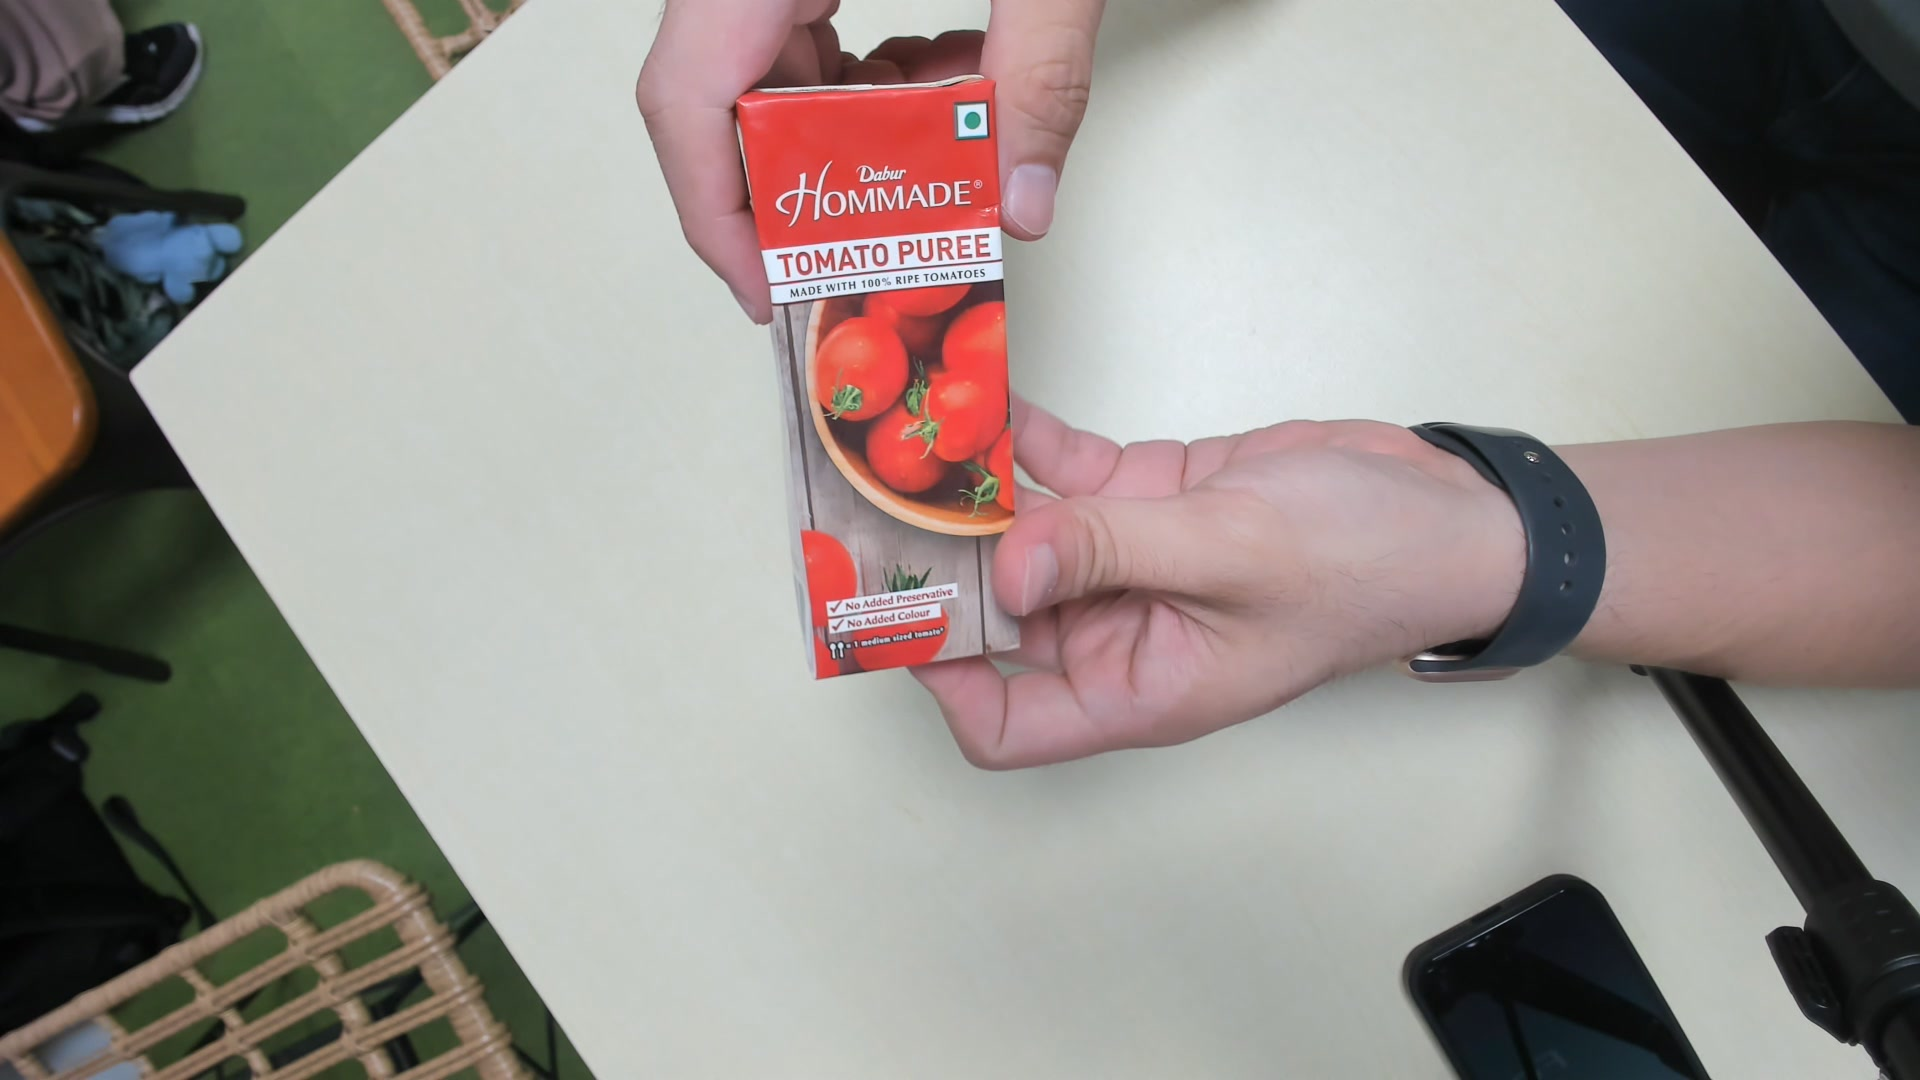OtherSauceDressing_200-299g_NonHalal_NonHealthy: (731, 91, 1025, 682)
